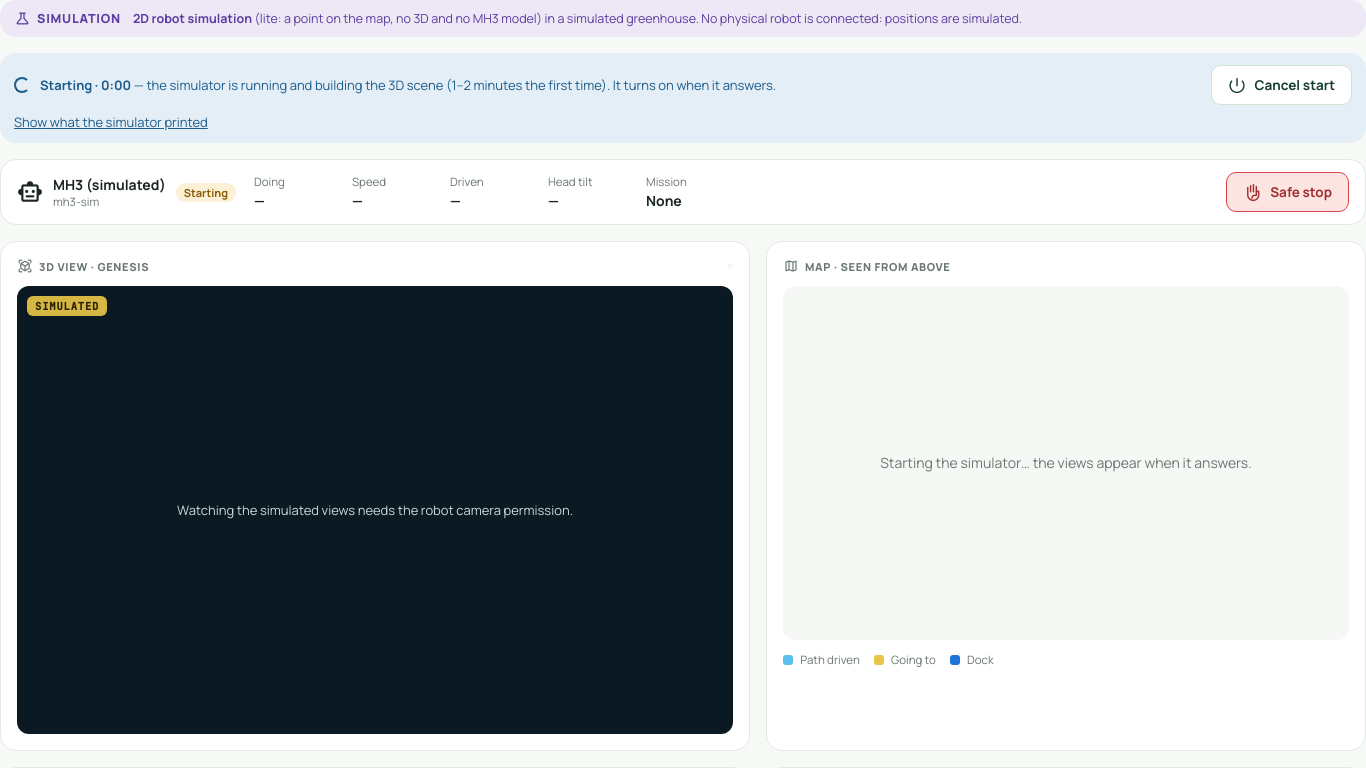
Adding the simulated robot (ADR-090) › shows a spinner and the time taken while it starts, and what the simulator prints
This screenshot has width=1366, height=768.
Expected: the message shows "Starting · 0:00", x1=0 y1=53 x2=1365 y2=143
Expected: the message shows "building the 3D scene", x1=0 y1=53 x2=1365 y2=143
Click the button "Show what the simulator printed" at coordinates (111, 122), box x1=14 y1=113 x2=208 y2=131
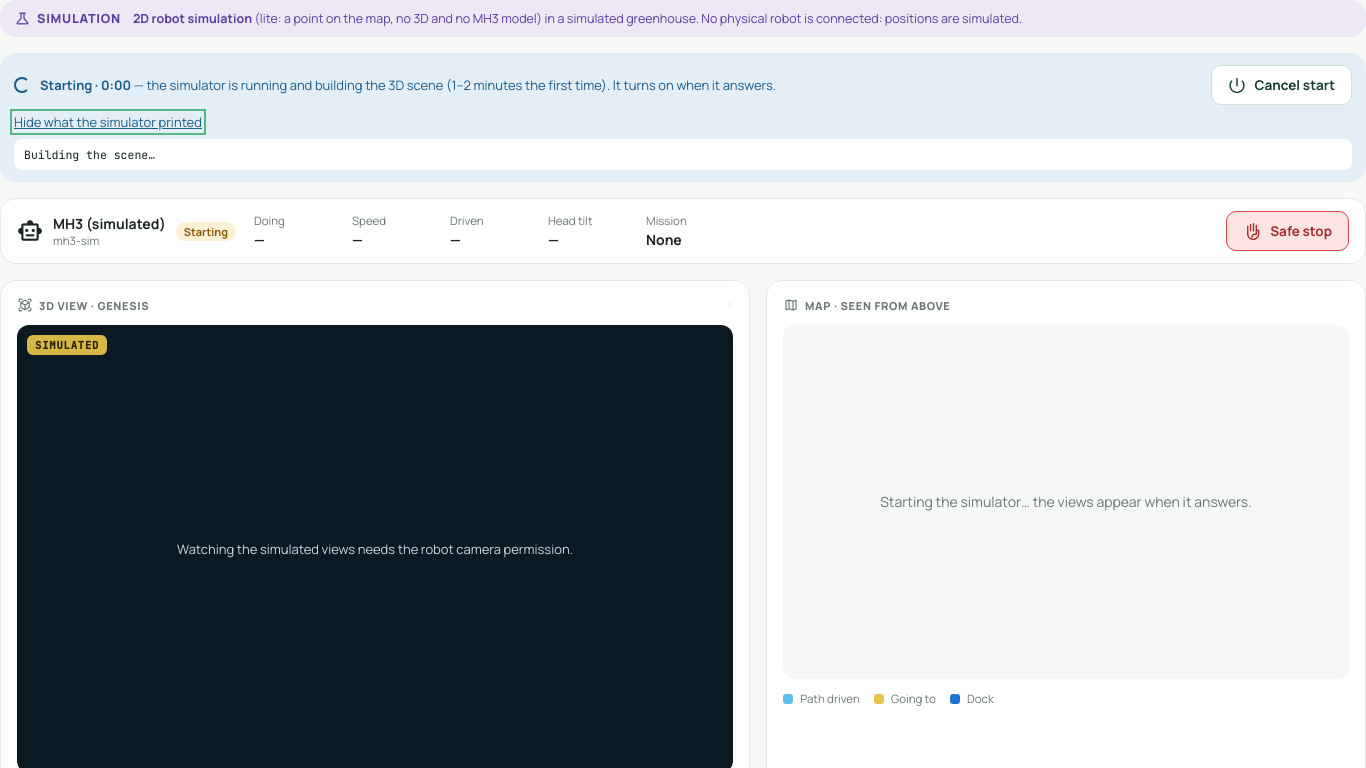
Expected: the text "Building the scene…" is shown, x1=14 y1=139 x2=1352 y2=170
